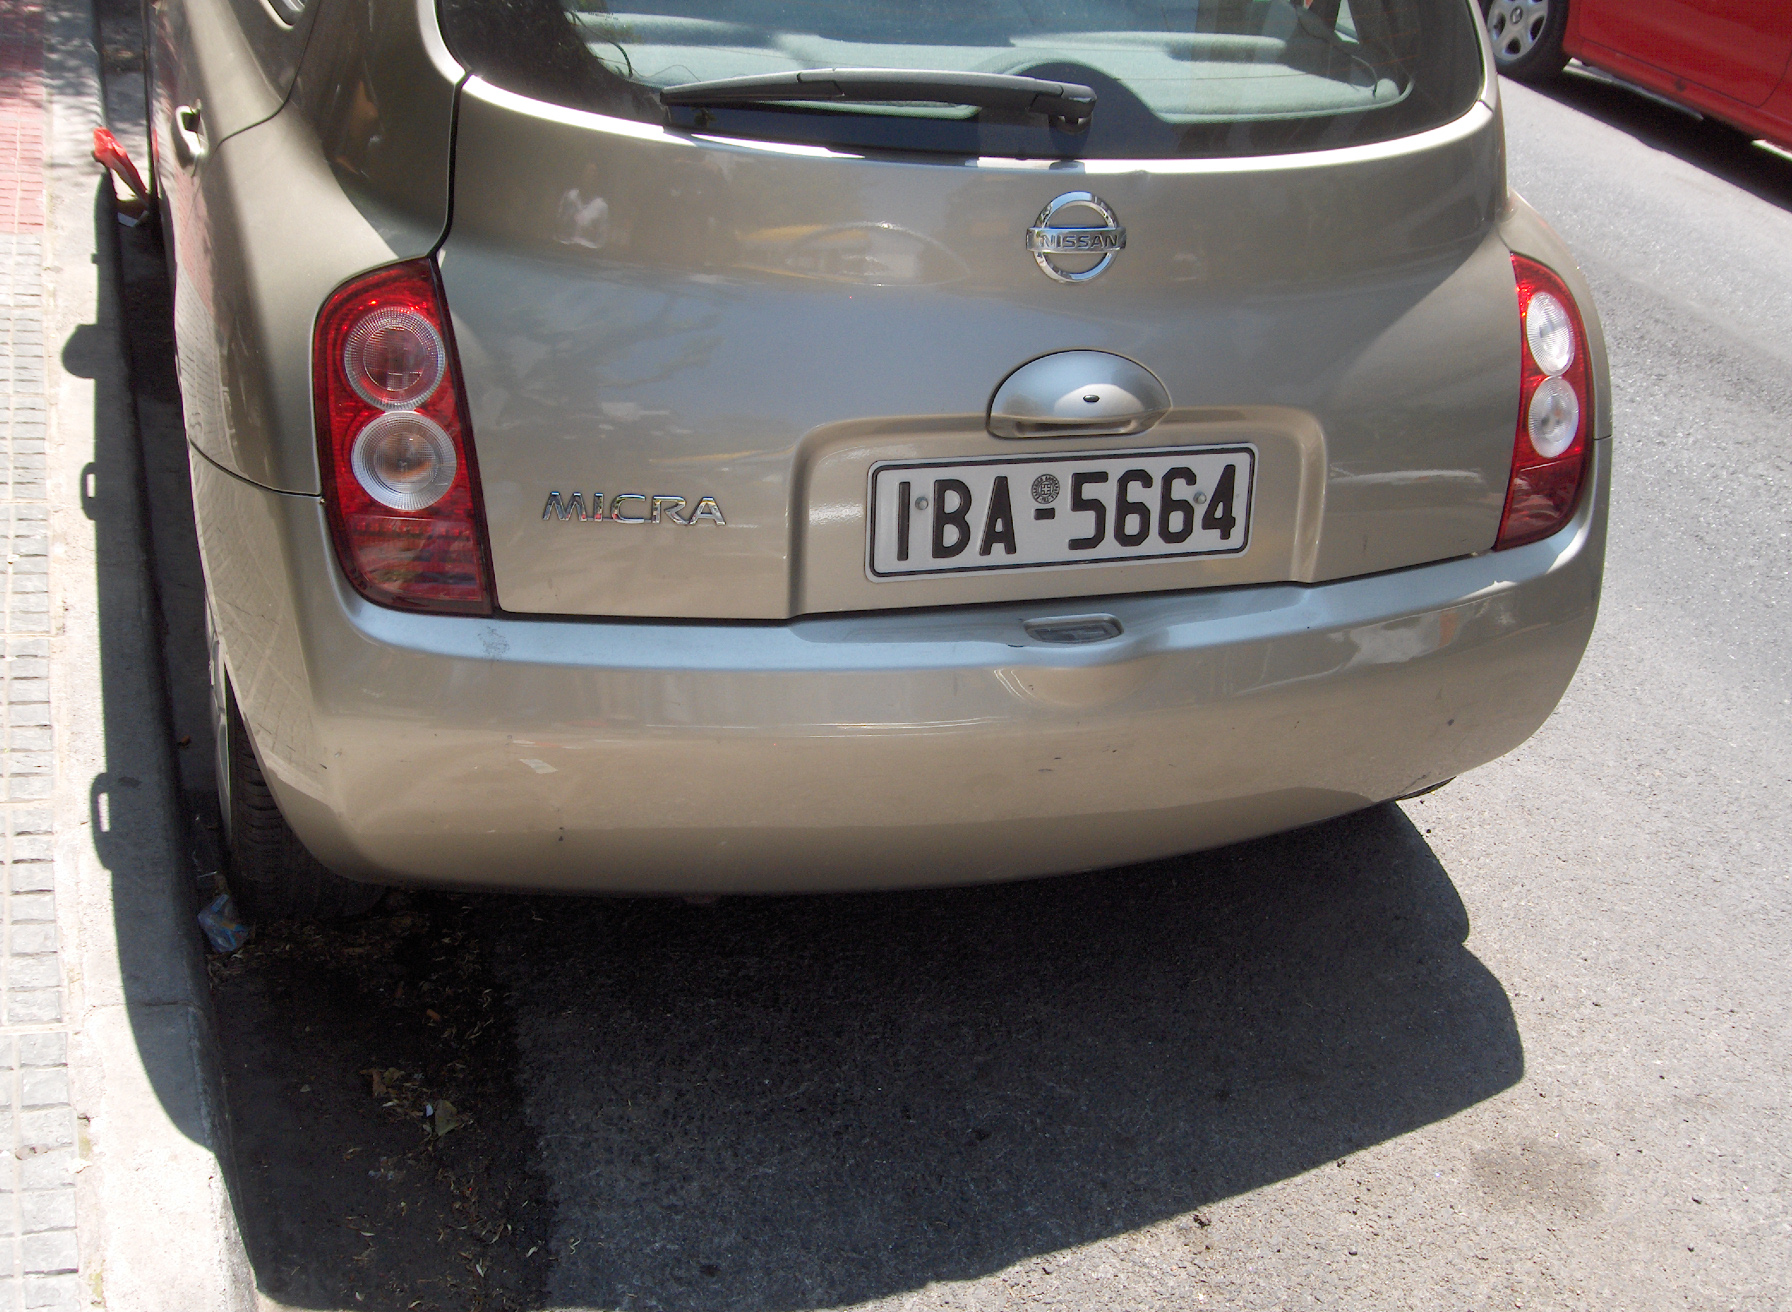licenseplate: (862, 434, 1260, 580)
